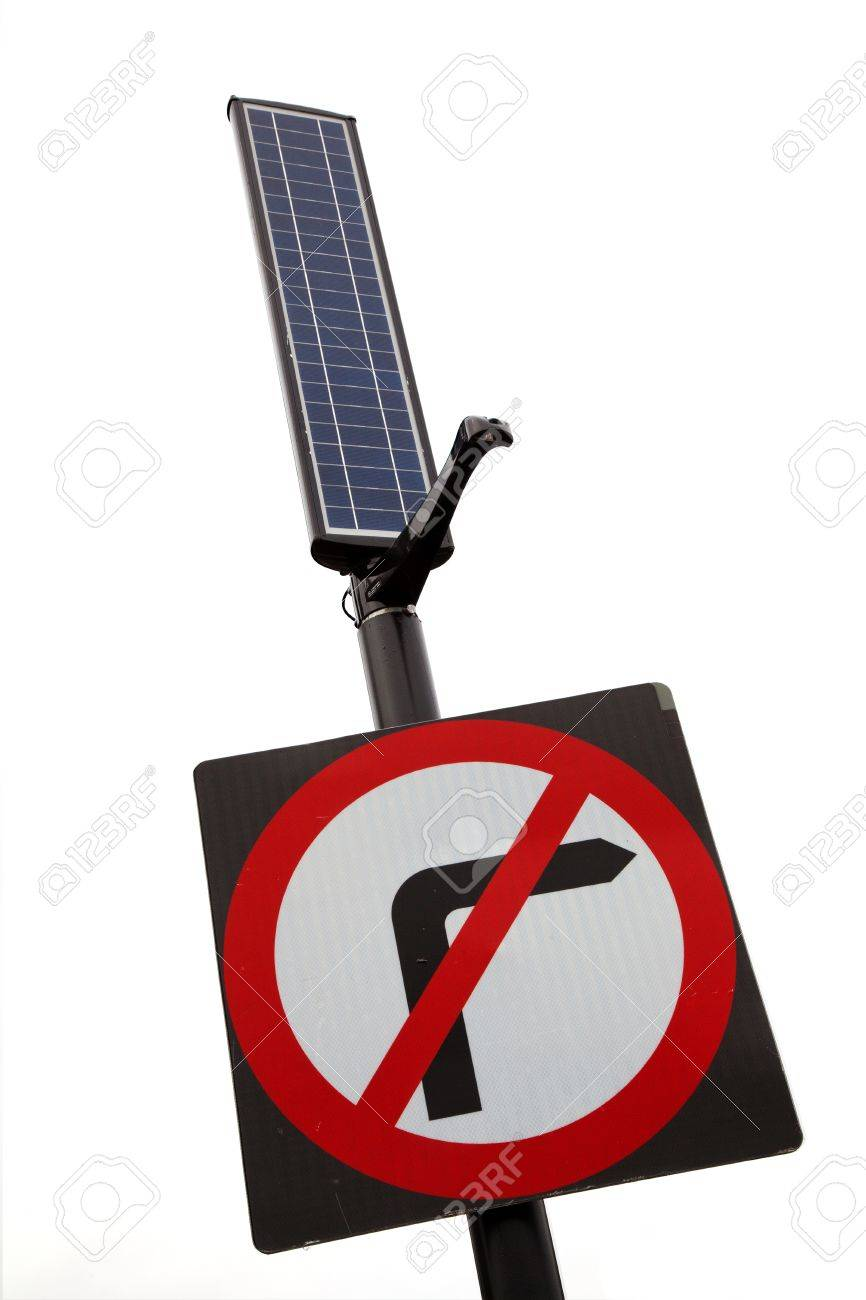No_right_turn: (216, 721, 738, 1194)
